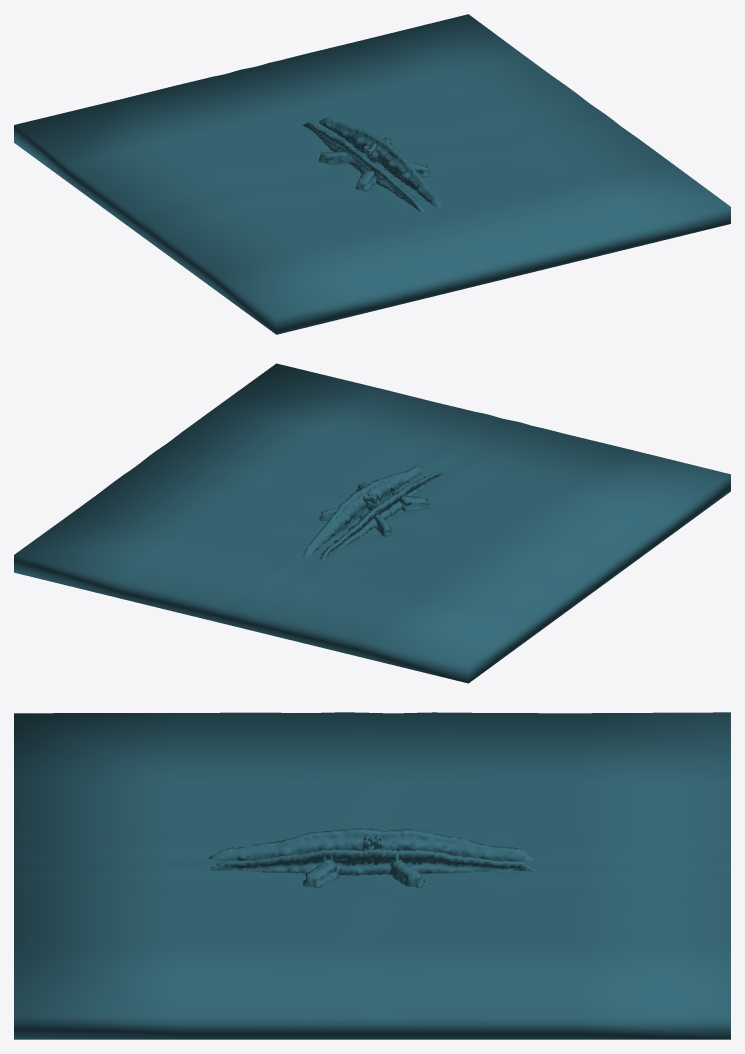
File: fused-reef-terraces-low.glb
3 views of the same model, one above another, from view 1: azimuth 30°, elevation 25°; view 2: azimuth 150°, elevation 25°; view 3: azimuth 270°, elevation 25° (orthographic). The views are drawn at different scales.
Visible parts, largest first — view 1: ISLAND_7_FUSED_REEF_BASIN_FLOOR, ISLAND_7_FUSED_RIGHT_TERRACED_BANK.001, ISLAND_7_FUSED_LEFT_TERRACED_BANK.001; view 2: ISLAND_7_FUSED_REEF_BASIN_FLOOR, ISLAND_7_FUSED_RIGHT_TERRACED_BANK.001, ISLAND_7_FUSED_LEFT_TERRACED_BANK.001; view 3: ISLAND_7_FUSED_REEF_BASIN_FLOOR, ISLAND_7_FUSED_RIGHT_TERRACED_BANK.001, ISLAND_7_FUSED_LEFT_TERRACED_BANK.001.
Part boxes in pixels (box(x1,y1,x2,y2)): ISLAND_7_FUSED_REEF_BASIN_FLOOR: box(14, 14, 730, 334); ISLAND_7_FUSED_RIGHT_TERRACED_BANK.001: box(319, 117, 441, 207); ISLAND_7_FUSED_LEFT_TERRACED_BANK.001: box(303, 122, 424, 212); ISLAND_7_FUSED_REEF_BASIN_FLOOR: box(14, 363, 730, 683); ISLAND_7_FUSED_RIGHT_TERRACED_BANK.001: box(303, 466, 425, 556); ISLAND_7_FUSED_LEFT_TERRACED_BANK.001: box(319, 471, 442, 560); ISLAND_7_FUSED_REEF_BASIN_FLOOR: box(14, 712, 730, 1039); ISLAND_7_FUSED_RIGHT_TERRACED_BANK.001: box(210, 848, 535, 888); ISLAND_7_FUSED_LEFT_TERRACED_BANK.001: box(209, 828, 534, 861).
Size of the model in its own units: 520 by 40.17 by 520.
